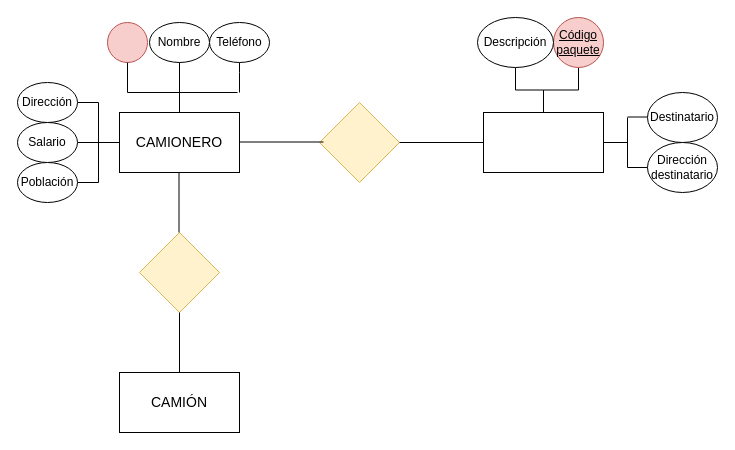
The diagram is 735 pixels wide and 450 high, and some of its shapes have lost their labels. Each missing label, with the centre of its shape:
CONDUCE: point 179,272
DNI: point 127,42
PAQUETE: point 543,142
REPARTE: point 359,142
